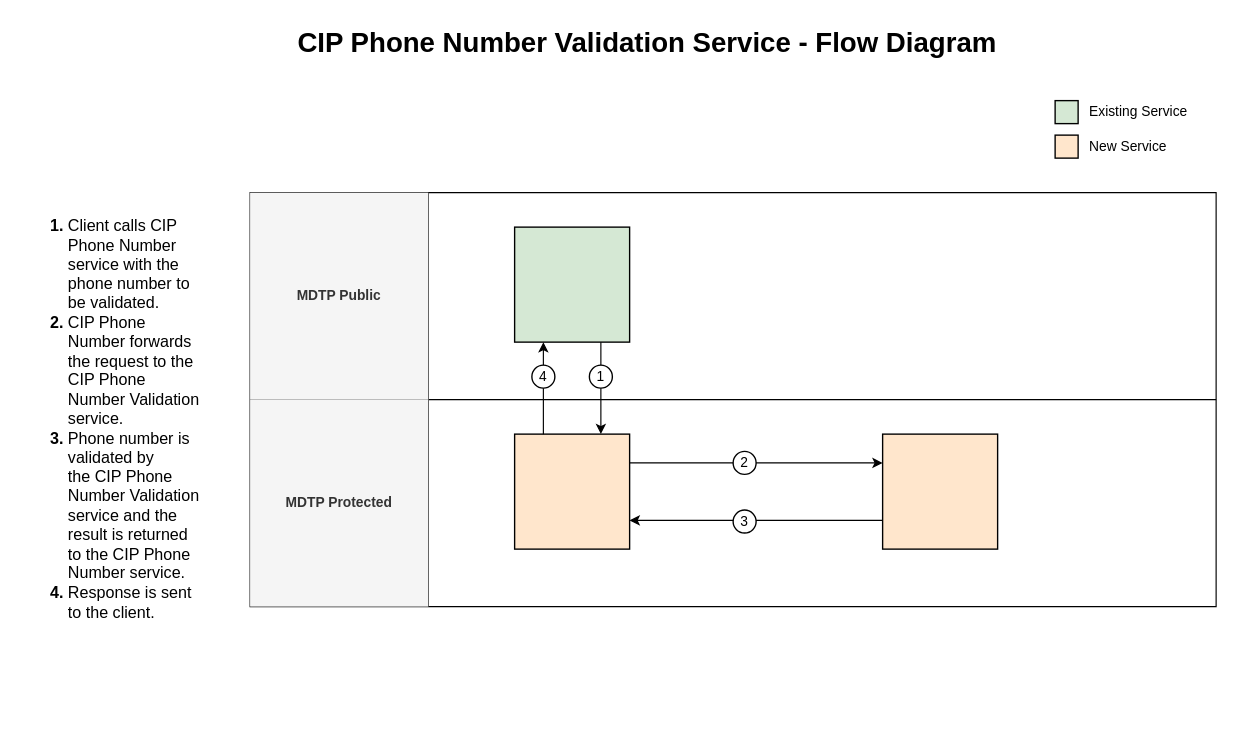
The diagram is 1236 pixels wide and 756 high, and some of its shapes have lost their labels. The box of each missing label's shape, as (x1, y1, x2, y2) in pixels:
CIP Phone Number Service: (513, 433, 630, 549)
CIP Phone Number Validation Service: (881, 433, 998, 549)
Client: (513, 226, 630, 342)
